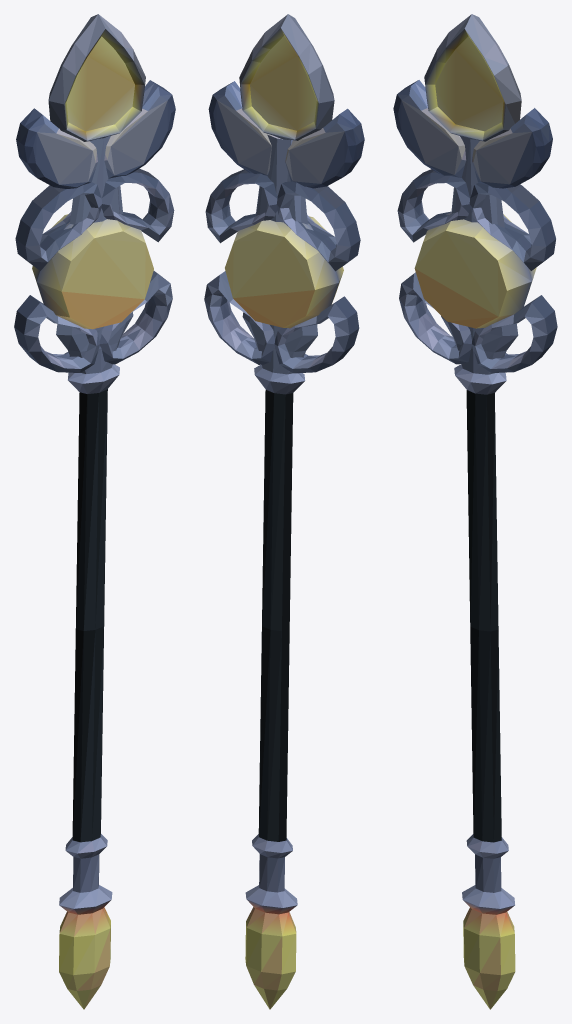
The model's file is weapon_staff_silver_3.fbx.
3 renders of one model, left to right at view 1: azimuth 30°, elevation 25°; view 2: azimuth 150°, elevation 25°; view 3: azimuth 330°, elevation 25°, orthographic. The views are drawn at different scales.
Parts seen in each view (by area): view 1: weapon_staff_silver_3; view 2: weapon_staff_silver_3; view 3: weapon_staff_silver_3.
Part boxes in pixels (x1,y1,x2,y2): weapon_staff_silver_3: (14, 14, 175, 1009); weapon_staff_silver_3: (204, 14, 364, 1009); weapon_staff_silver_3: (393, 14, 557, 1009).
Bounding box in the file's own units: 0.5081 × 3.23 × 0.2122.
